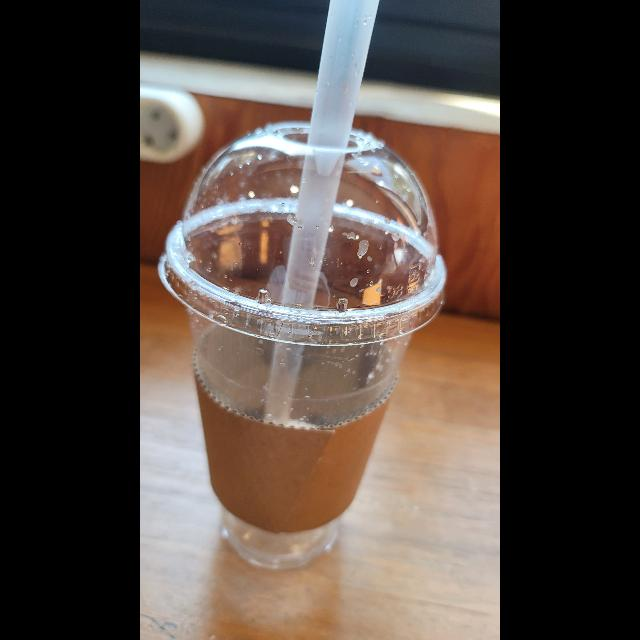plastic_cup: (160, 120, 448, 572)
plastic_cup_lid: (154, 120, 446, 348)
straw: (260, 0, 378, 418)
